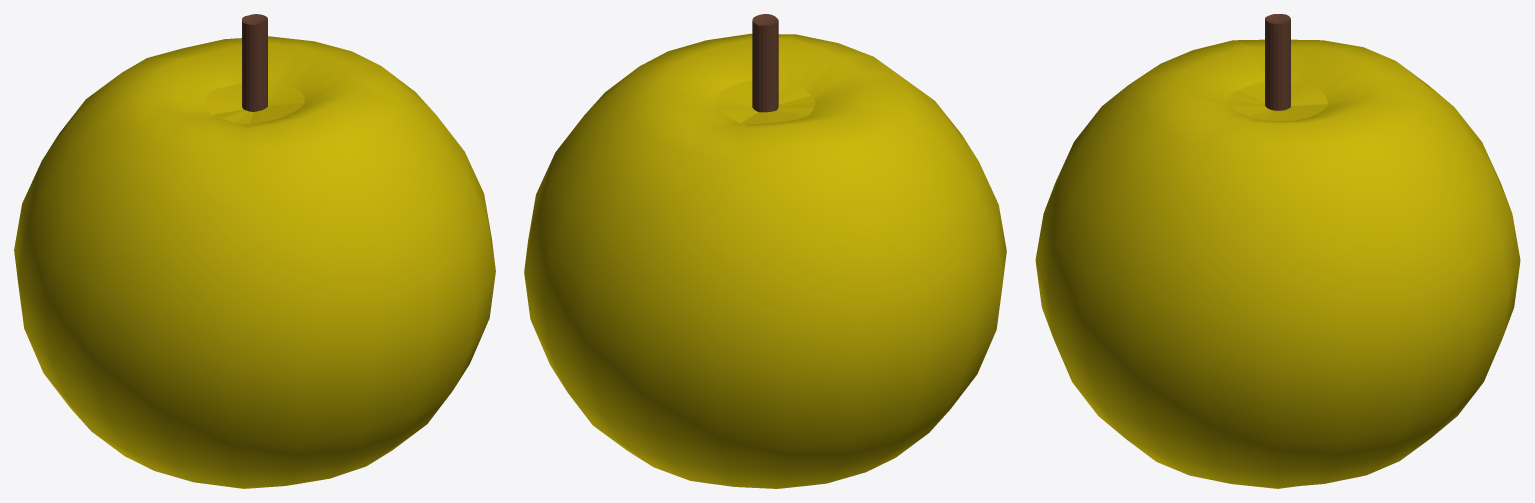
File: goldapple.fbx
3 views of the same model, side by side, from view 1: azimuth 30°, elevation 25°; view 2: azimuth 150°, elevation 25°; view 3: azimuth 270°, elevation 25° (orthographic).
Parts seen in each view (by area): view 1: apple; view 2: apple; view 3: apple.
Boxes of the visible parts, x1,y1,x2,y2 form: apple: (14,14,495,488); apple: (524,14,1006,488); apple: (1035,14,1520,488).
Size of the model in its own units: 1.98 by 1.93 by 1.98.
